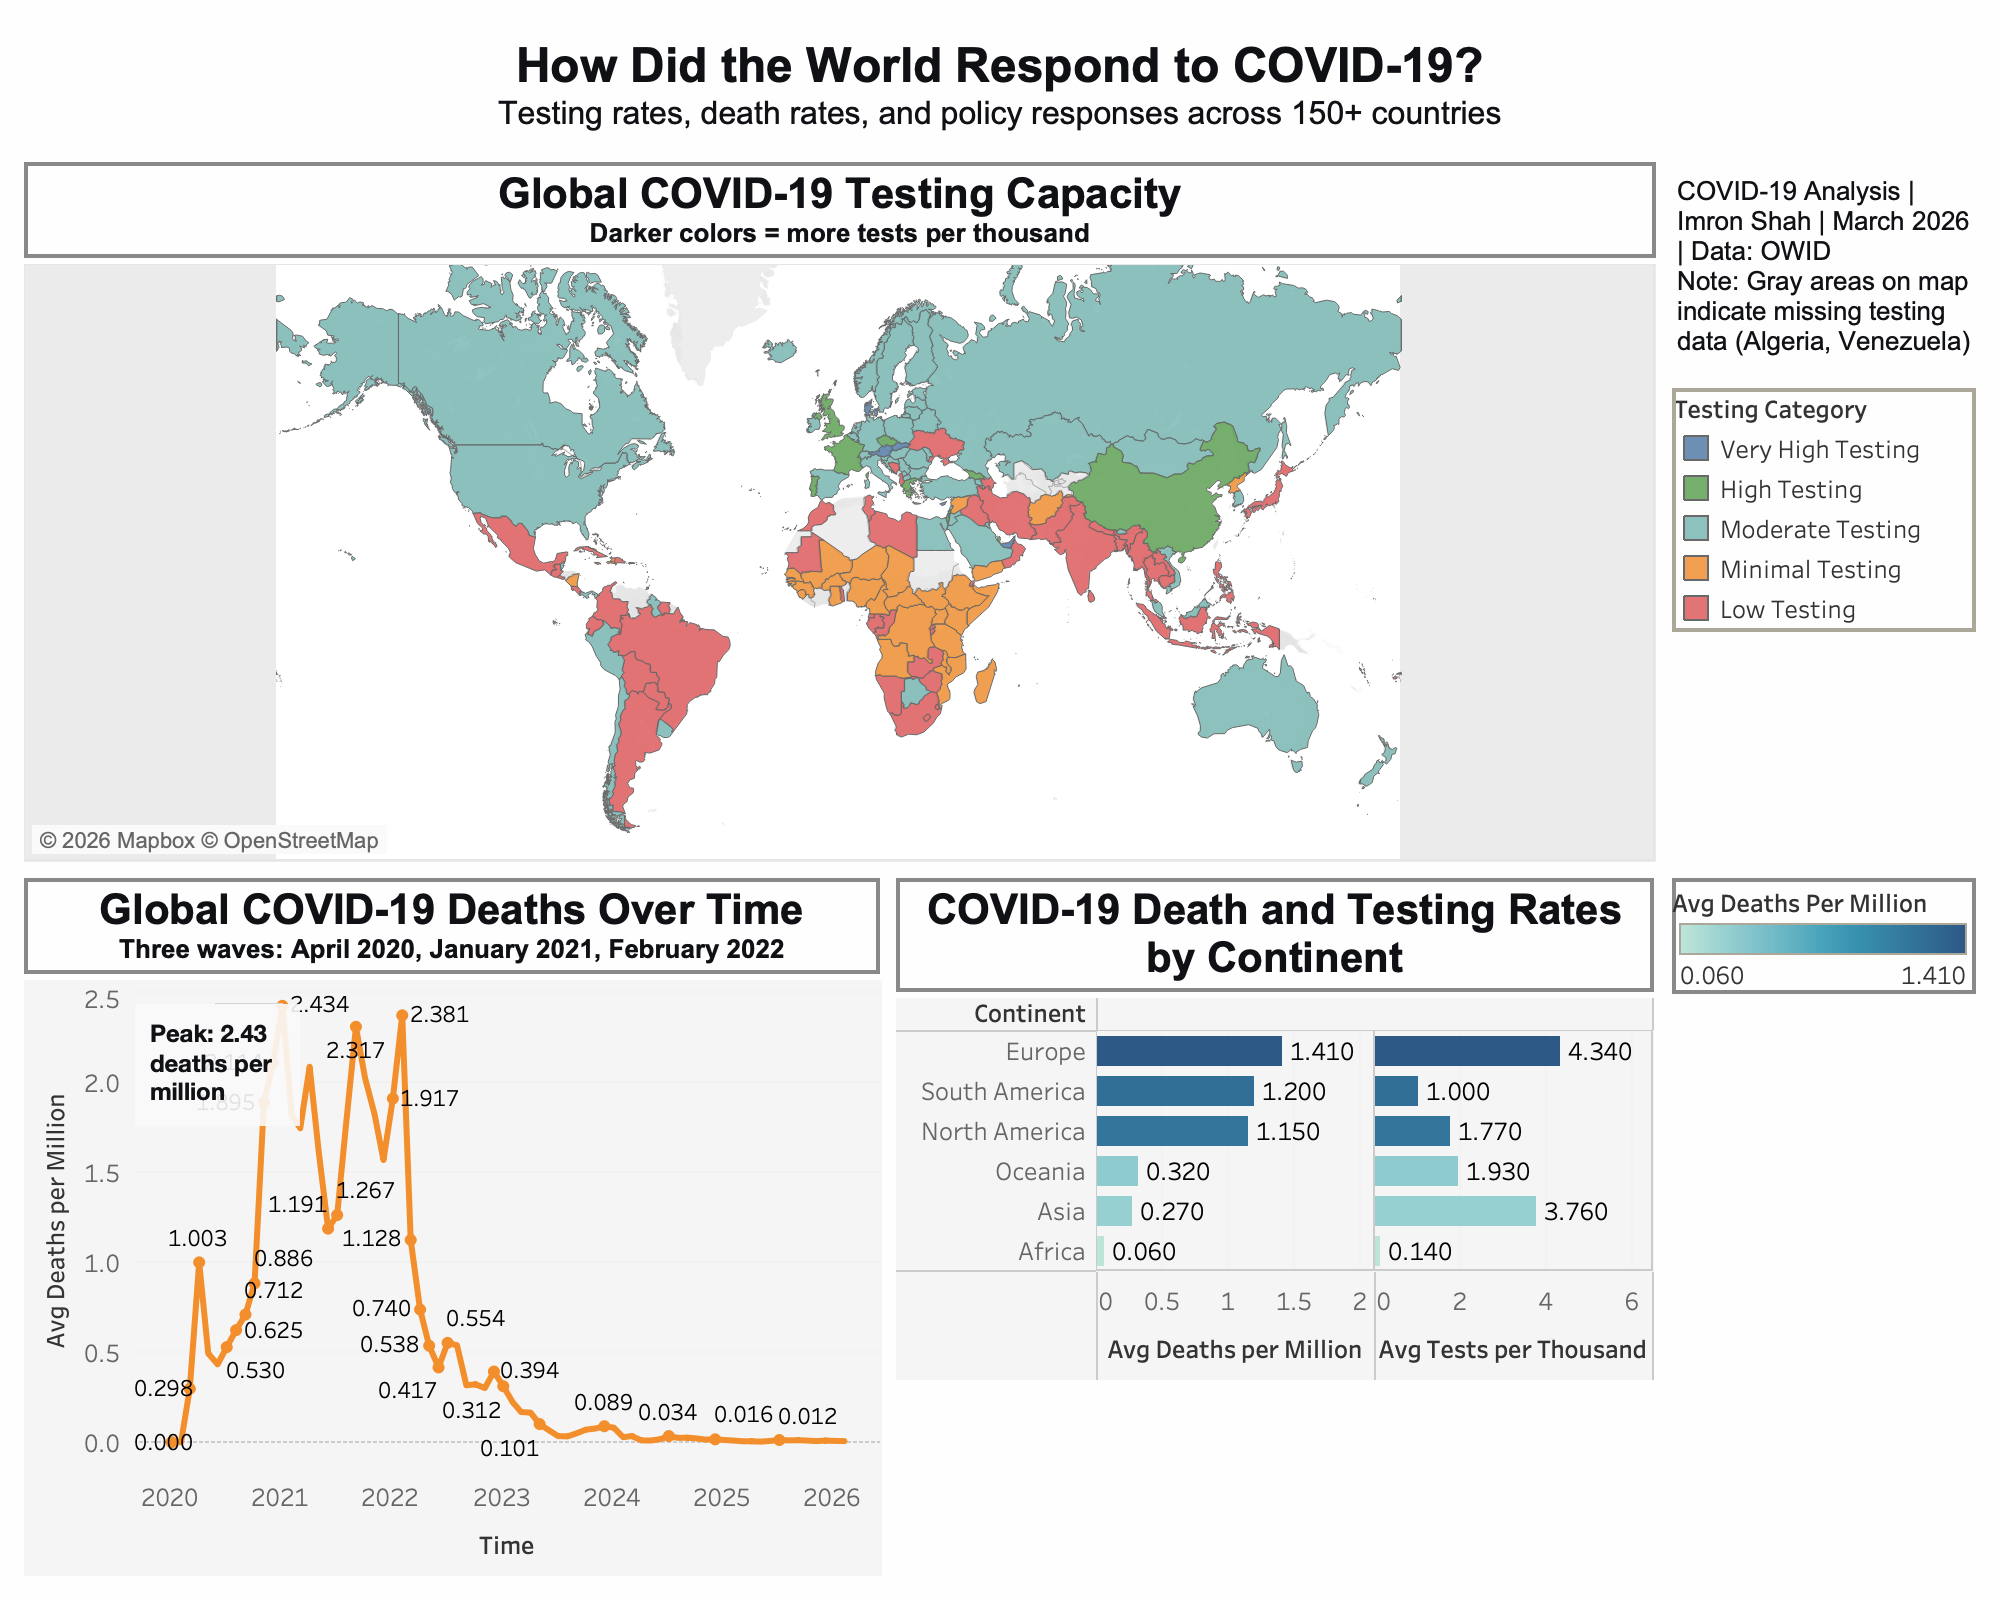

The dashboard page shown, as its layout file describes it:
{"tool":"tableau","page":{"name":"COVID-19 Global Analysis","canvas":[1000,800],"ordinal":0},"visuals":[{"type":"text","box":[8,8,984,69]},{"type":"worksheet","title":"Global Testing Map","mark":"Multipolygon","box":[8,77,824,357.5]},{"type":"text","box":[832,77,160,113]},{"type":"legend","title":"Global Testing Map","param":"[federated.1wib3zw1oklfm51ac0tal16d5sgc].[none:testing_category:nk]","box":[832,190,160,133]},{"type":"worksheet","title":"Global Deaths Timeline","mark":"Line","rows":["avg_deaths_per_million"],"cols":["month"],"box":[8,434.5,436,357.5]},{"type":"worksheet","title":"Continent Comparison","mark":"Bar","rows":["continent"],"cols":["avg_deaths_per_million (continent_summary.csv)","avg_tests_per_thousand"],"box":[444,434.5,388,357.5]},{"type":"legend","title":"Continent Comparison","param":"[federated.1wib3zw1oklfm51ac0tal16d5sgc].[sum:avg_deaths_per_million (continent_","box":[832,434.5,160,69]}]}

Visuals, with their boxes in screenshot pixels (x1, y1, x2, y2), scaled from the page's 1000x800 canvas onto the 2000x1600 screenshot:
text: Rect(16, 16, 1984, 154)
"Global Testing Map" worksheet (Multipolygon marks): Rect(16, 154, 1664, 869)
text: Rect(1664, 154, 1984, 380)
"Global Testing Map" legend: Rect(1664, 380, 1984, 646)
"Global Deaths Timeline" worksheet (Line marks): Rect(16, 869, 888, 1584)
"Continent Comparison" worksheet (Bar marks): Rect(888, 869, 1664, 1584)
"Continent Comparison" legend: Rect(1664, 869, 1984, 1007)
